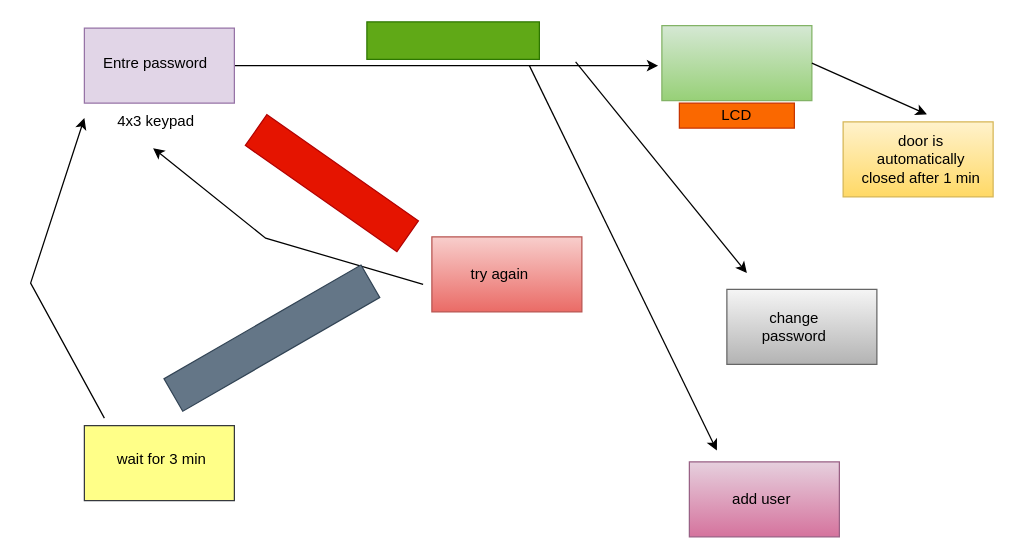
Image size: 1015x559. Some labels were removed from this diagram. The shapes that lost their labels are listed below. From the top down, each one's centre as x and y in pixels, then its label:
At pixel 452 40: "password is correct".
At pixel 736 62: "Door is opened".
At pixel 331 182: "password is incorrect".
At pixel 271 337: "more than 3 times incorrect".
